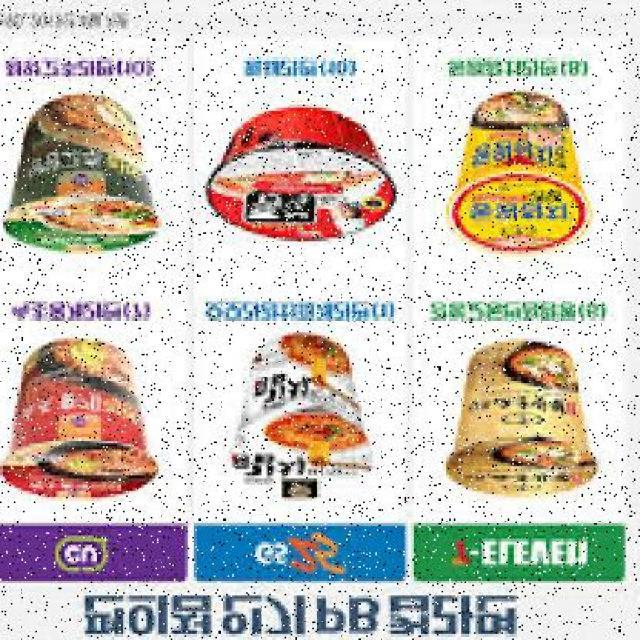Miscellaneous: (0, 333, 155, 504), (200, 113, 408, 240), (6, 95, 168, 254), (222, 336, 373, 502), (453, 87, 589, 255), (448, 338, 588, 500)
